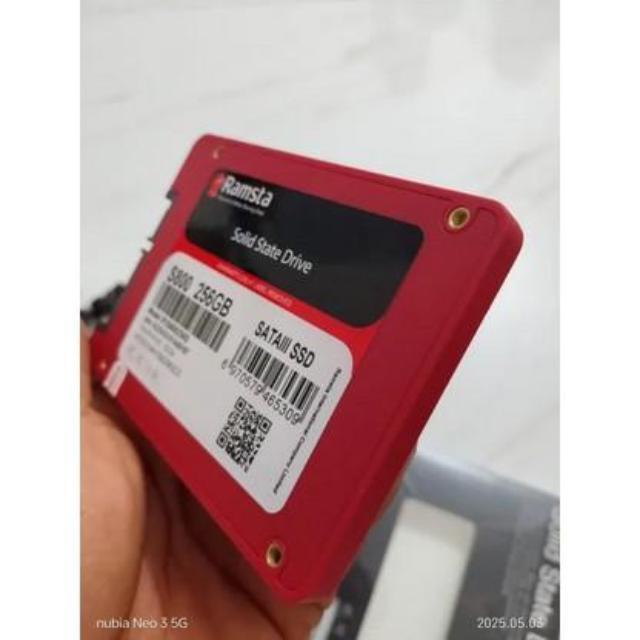DISK: (95, 120, 520, 612)
